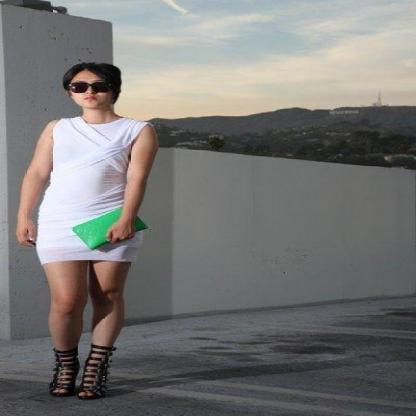bag: (73, 208, 128, 249)
dress: (35, 116, 149, 274)
shoe: (52, 346, 116, 399)
shorts: (88, 360, 118, 385)
sunglass: (87, 78, 121, 104)
